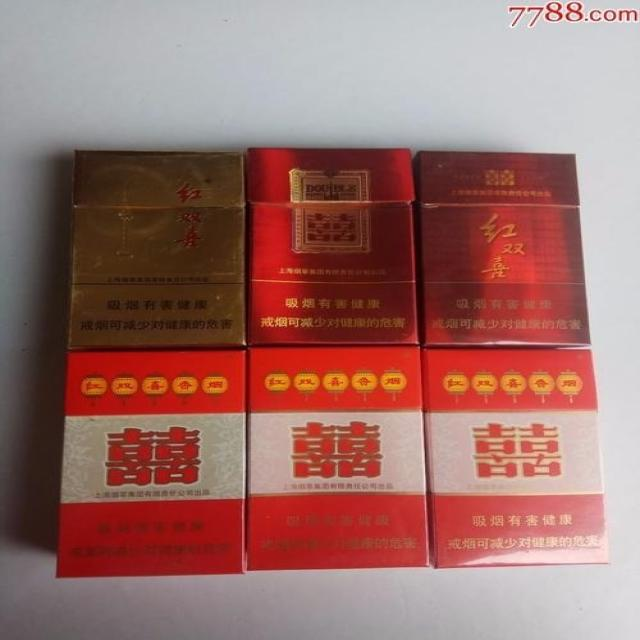box: (55, 348, 247, 579), (244, 345, 433, 572), (421, 347, 608, 570), (67, 149, 247, 350), (246, 147, 421, 346), (412, 151, 588, 348)
